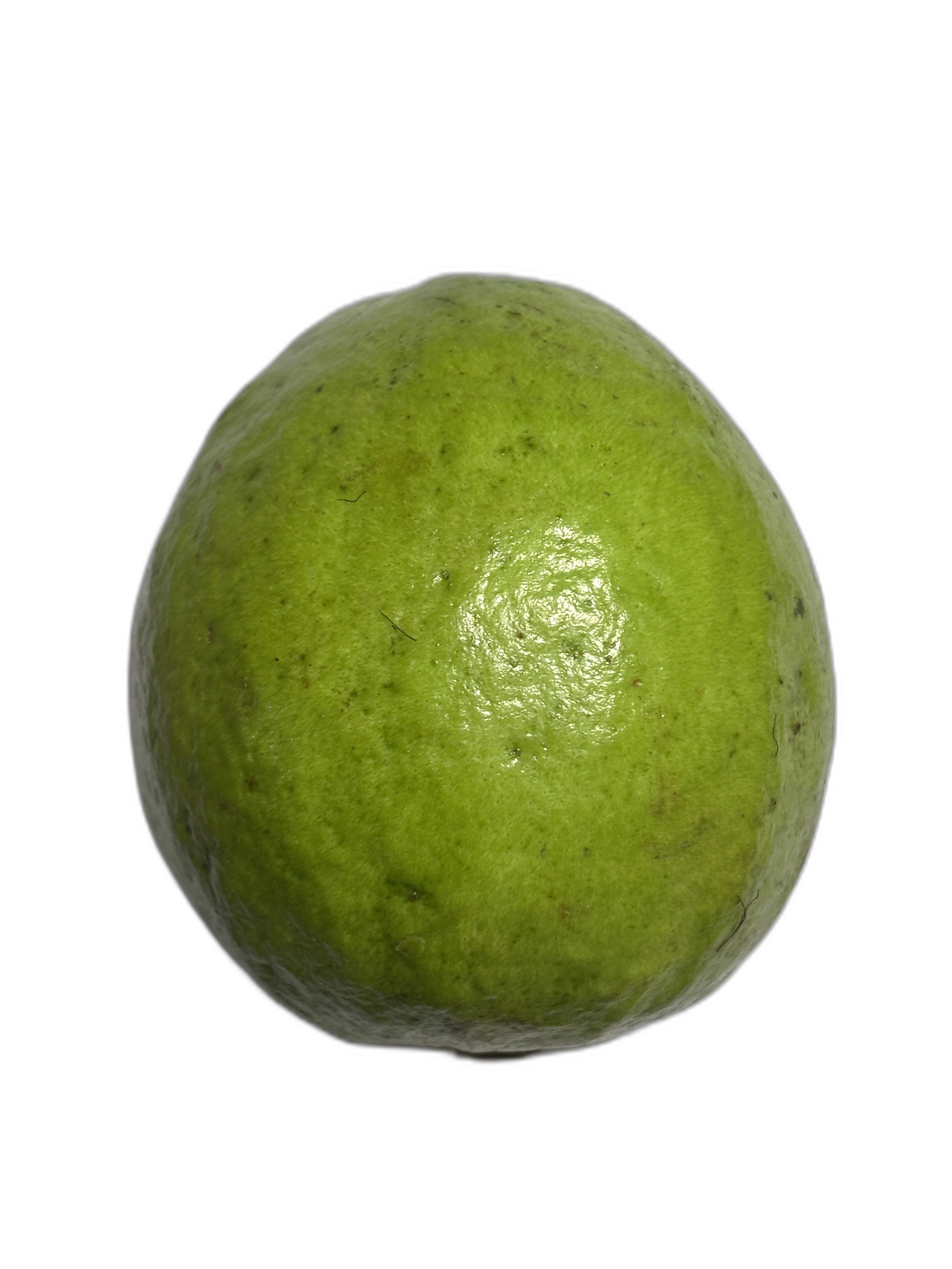guava: (226, 267, 801, 1128)
